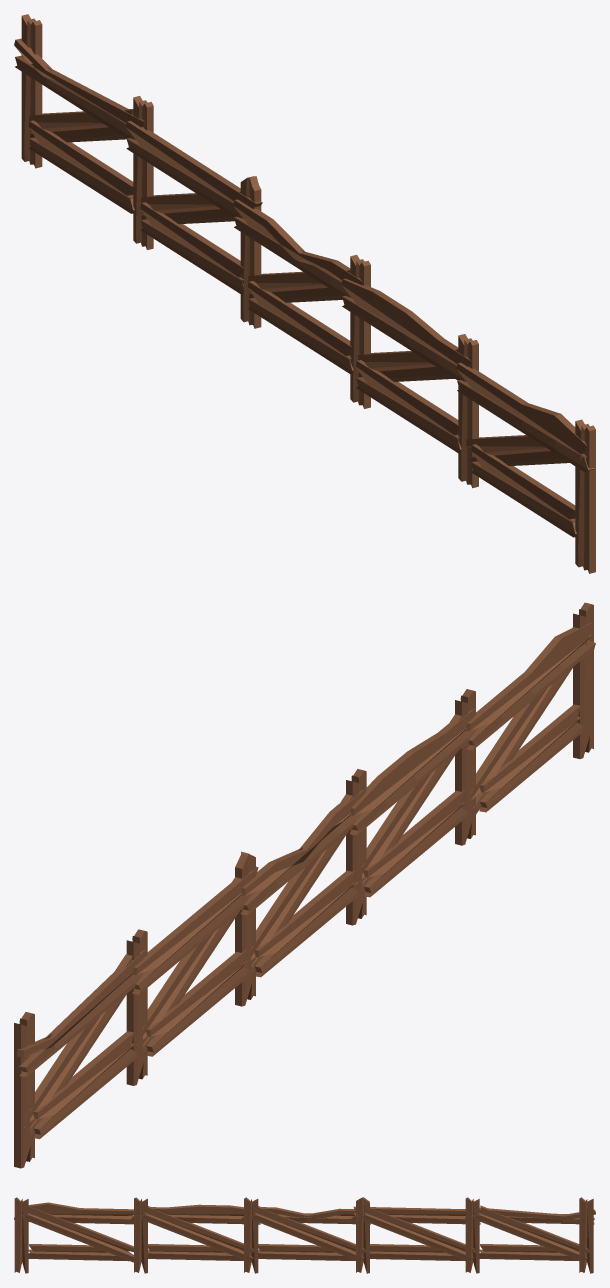
Rendered from cit.fbx.
The picture shows the model from 3 angles, top to bottom: view 1: azimuth 30°, elevation 25°; view 2: azimuth 150°, elevation 25°; view 3: azimuth 270°, elevation 25°; orthographic projection. The views are drawn at different scales.
Visible parts, largest first — view 1: Cube.015; view 2: Cube.015; view 3: Cube.015.
Boxes of the visible parts, bbox=[...] form: Cube.015: bbox=[14, 14, 595, 573]; Cube.015: bbox=[14, 602, 595, 1168]; Cube.015: bbox=[14, 1197, 595, 1273].
Size of the model in its own units: 59.48 by 492 by 3451.
